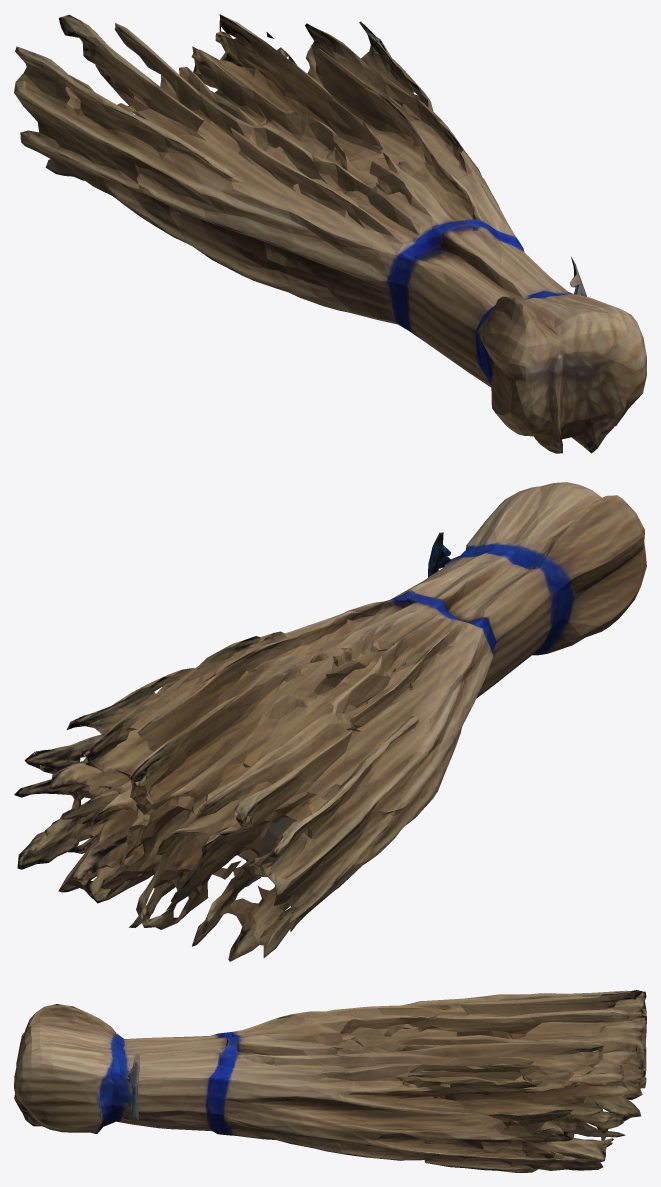
The model's file is palm_frond.glb.
The picture shows the model from 3 angles, top to bottom: view 1: azimuth 30°, elevation 25°; view 2: azimuth 150°, elevation 25°; view 3: azimuth 270°, elevation 25°; orthographic projection. The views are drawn at different scales.
Visible parts, largest first — view 1: world; view 2: world; view 3: world.
Part boxes in pixels (left/top/right/bottom): world: left=14, top=14, right=646, bottom=453; world: left=14, top=482, right=646, bottom=961; world: left=14, top=990, right=646, bottom=1172.
Bounding box in the file's own units: 0.4095 × 0.1939 × 0.9963.
1 material, 1 textured.
